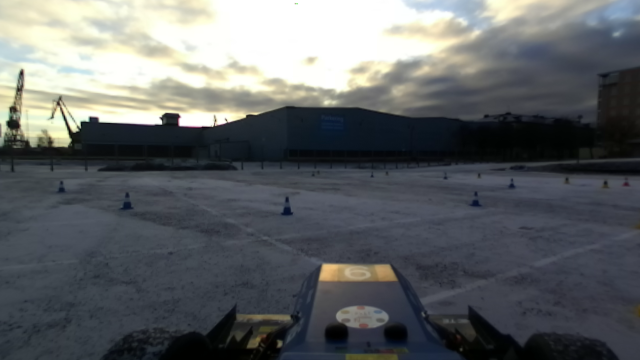blue: (279, 193, 294, 219), (466, 187, 483, 209), (119, 191, 136, 212), (53, 178, 68, 195), (505, 176, 516, 190)
yellow: (599, 177, 610, 190), (561, 175, 571, 185)
